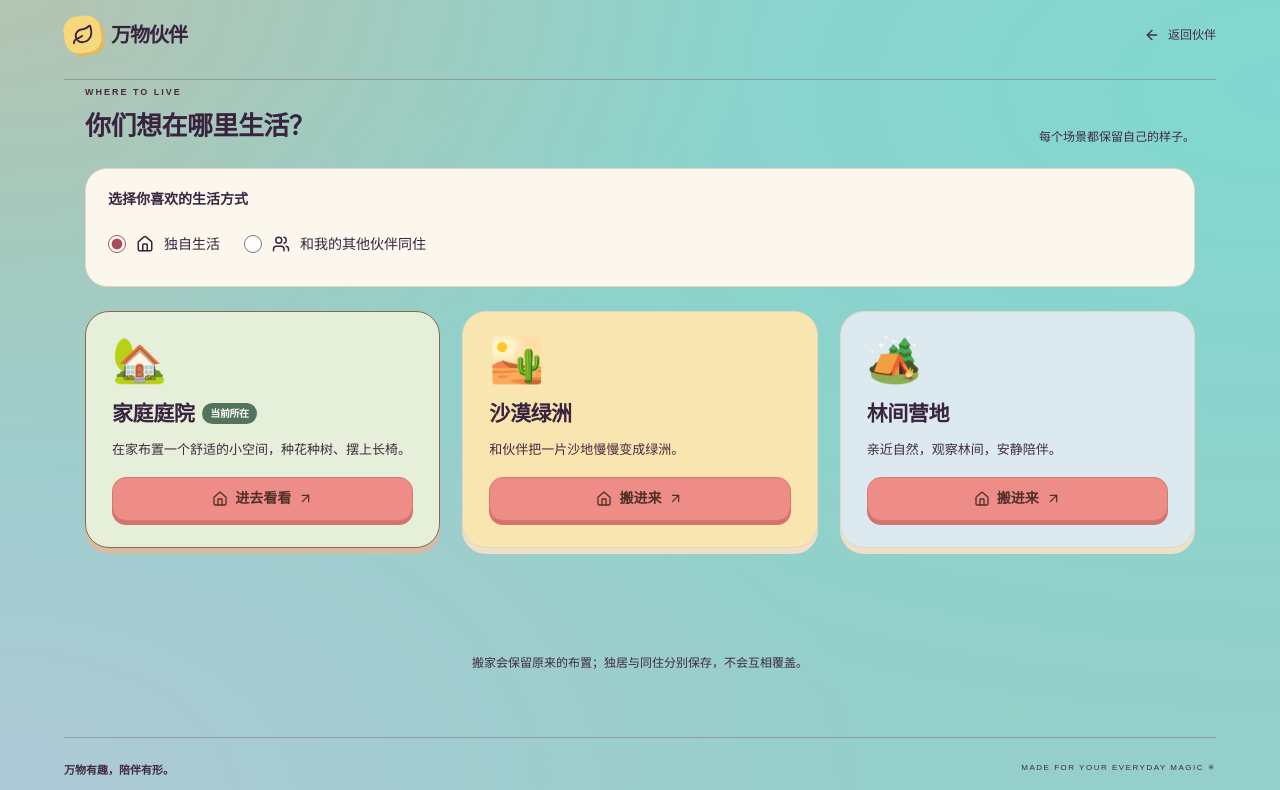
locks writes until an uncertain operation can be read back
Click the radio button labelled "和我的其他伙伴同住" at (253, 244), box [244,235,262,253]
(page scrolled)
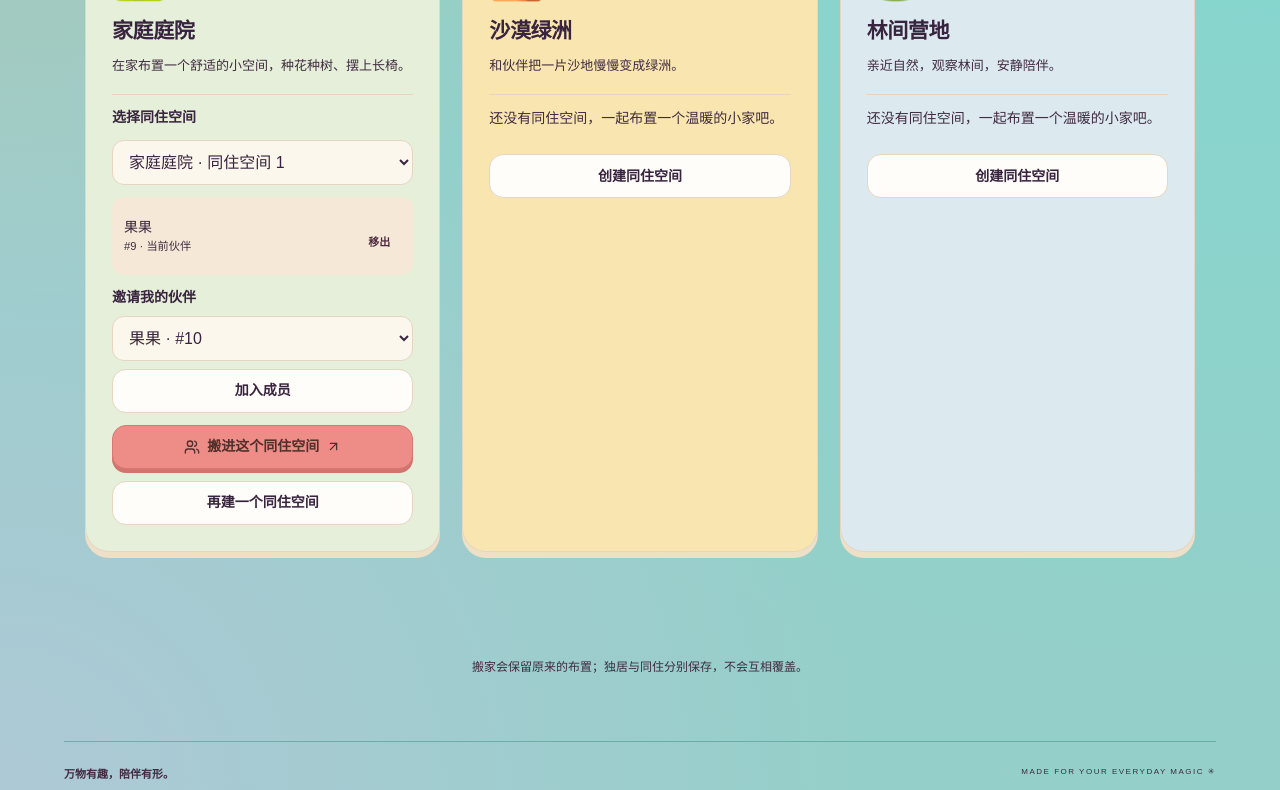
Click the button "加入成员" at (263, 391), box [112,369,413,413]
(page scrolled)
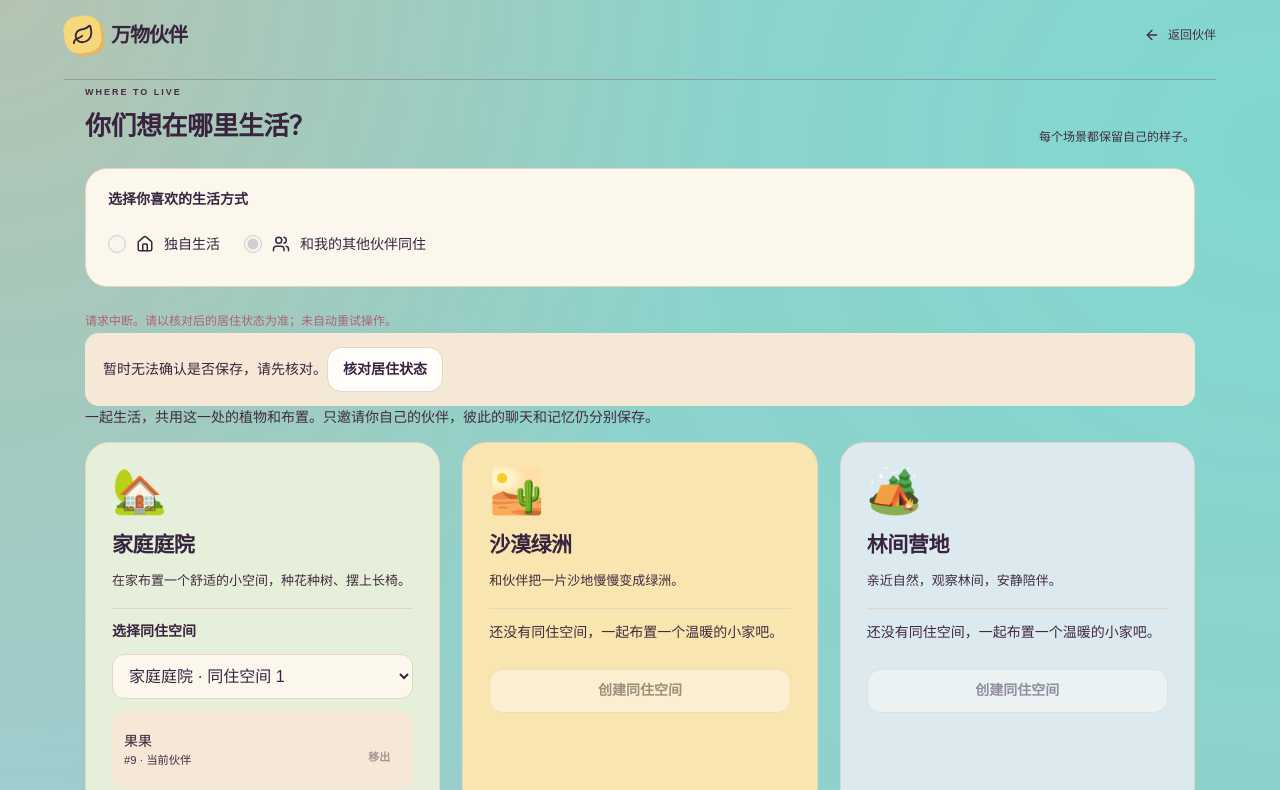
Click the button "核对居住状态" at (385, 370), box [327,347,443,392]
(page scrolled)
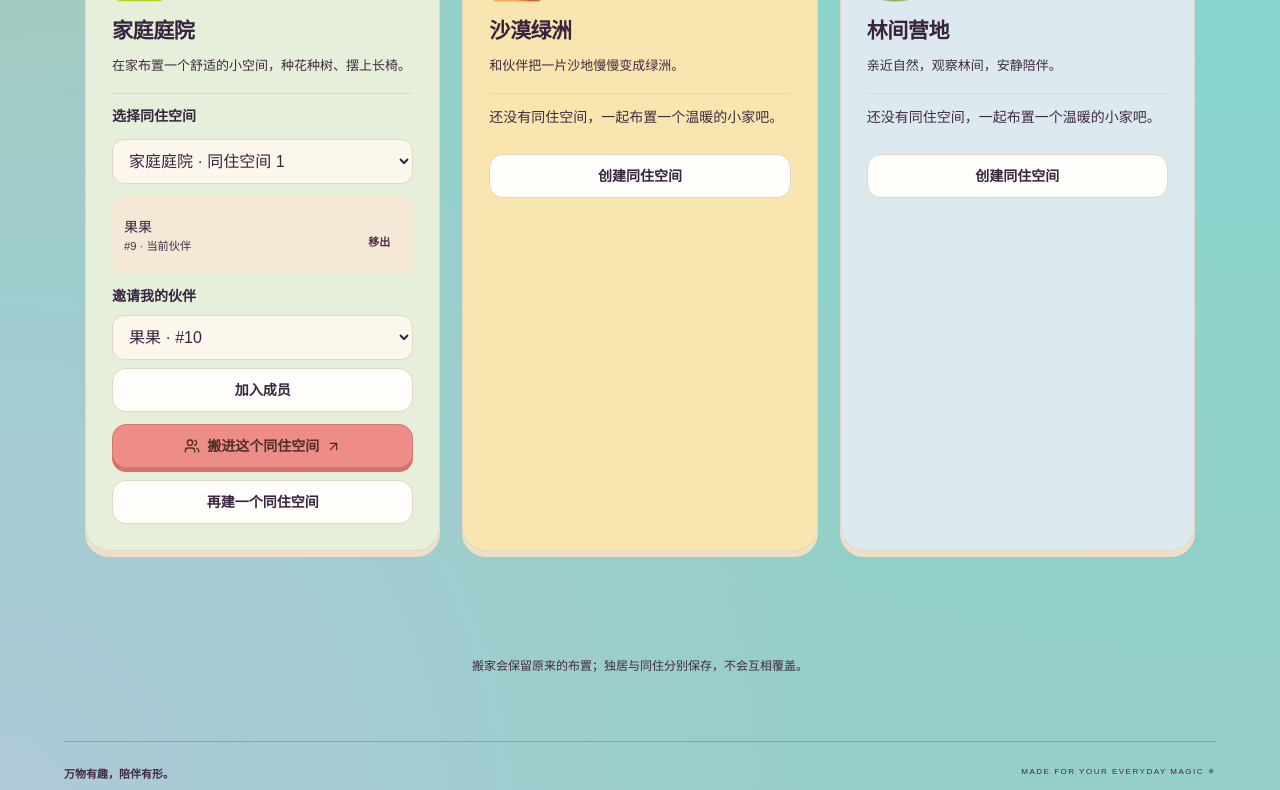
Result: the button "加入成员" is enabled at [112,368,413,412]
